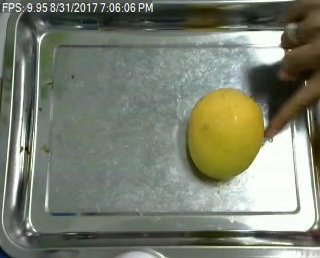Mango: (186, 89, 263, 184)
